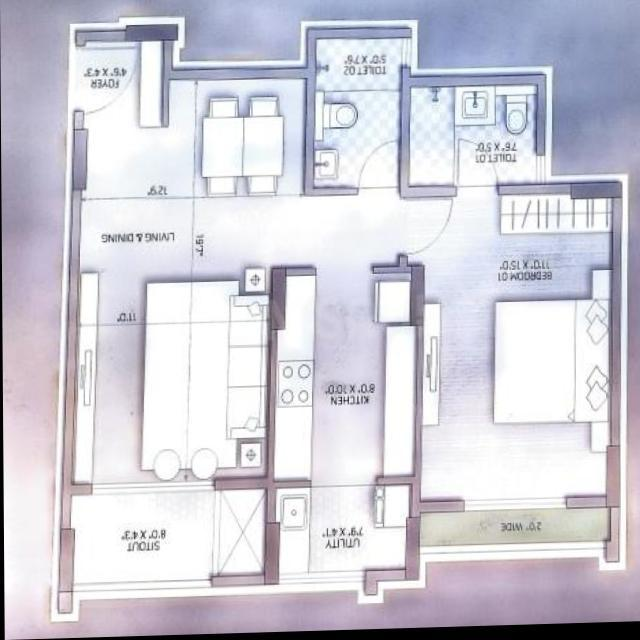Balcony-Sitout: (62, 485, 216, 591)
Bedroom: (421, 194, 624, 511)
Dining: (187, 90, 297, 201)
Enterance-Foyer: (75, 34, 165, 135)
Kitchen: (271, 263, 422, 489)
Living: (65, 266, 271, 488)
Toilet: (406, 77, 546, 196), (311, 39, 406, 198)
Utility: (270, 487, 417, 584)
